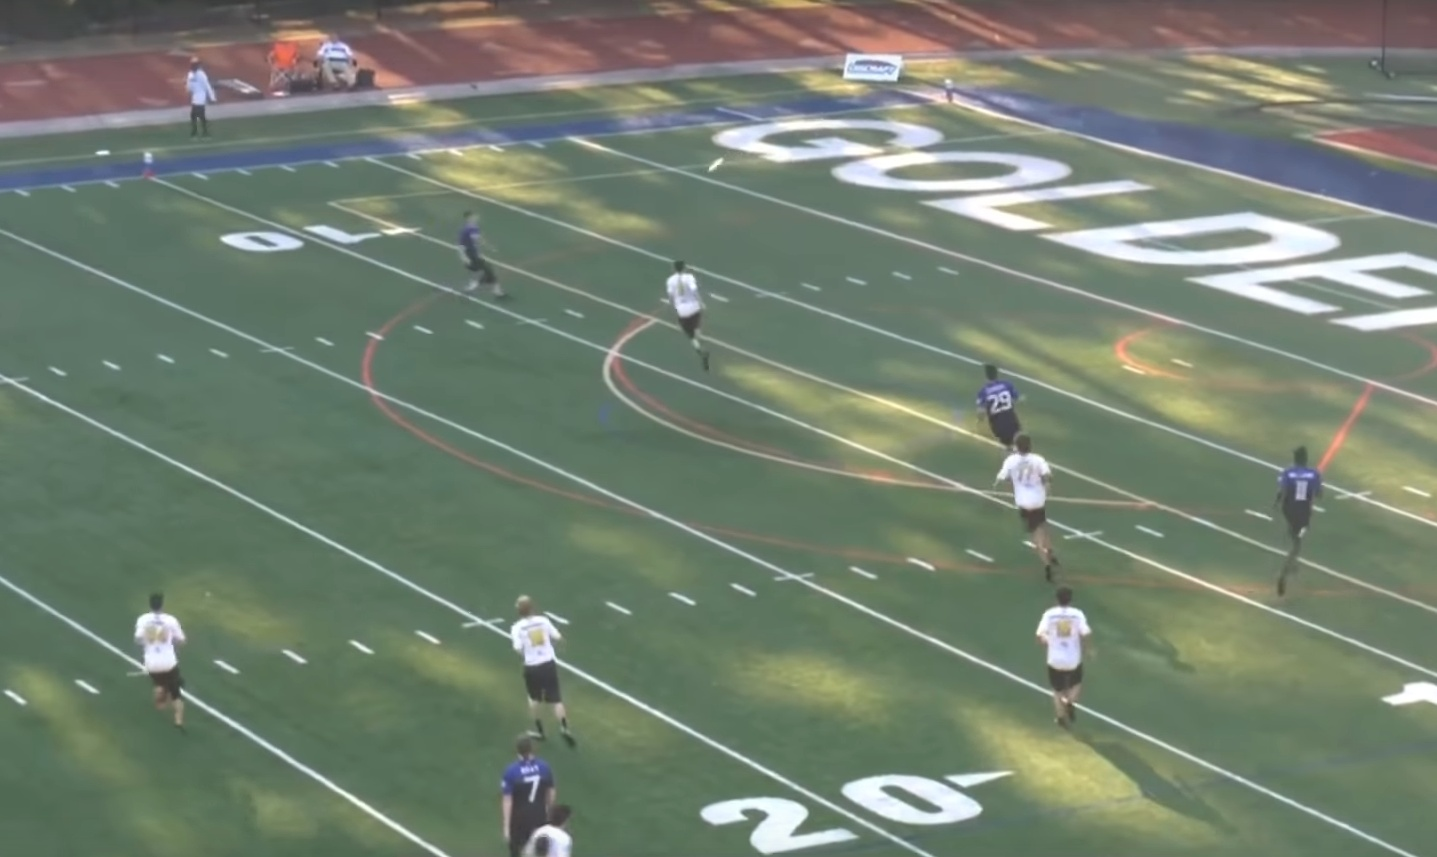frisbee: (708, 157, 725, 173)
